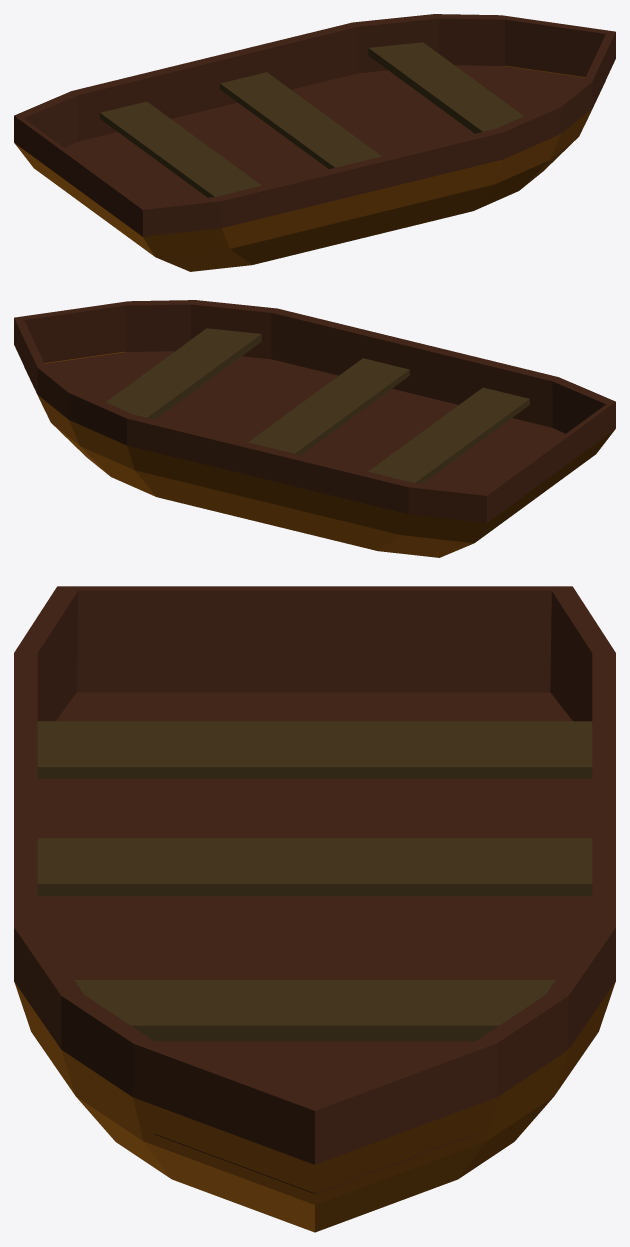
The model's file is rowboat.fbx.
3 renders of one model, top to bottom at view 1: azimuth 30°, elevation 25°; view 2: azimuth 150°, elevation 25°; view 3: azimuth 270°, elevation 25°, orthographic. The views are drawn at different scales.
Visible parts, largest first — view 1: Cube; view 2: Cube; view 3: Cube.
Boxes of the visible parts, x1,y1,x2,y2 form: Cube: [14, 14, 615, 271]; Cube: [14, 300, 615, 557]; Cube: [14, 586, 615, 1232].
Bounding box in the file's own units: 669 × 104 × 324.
